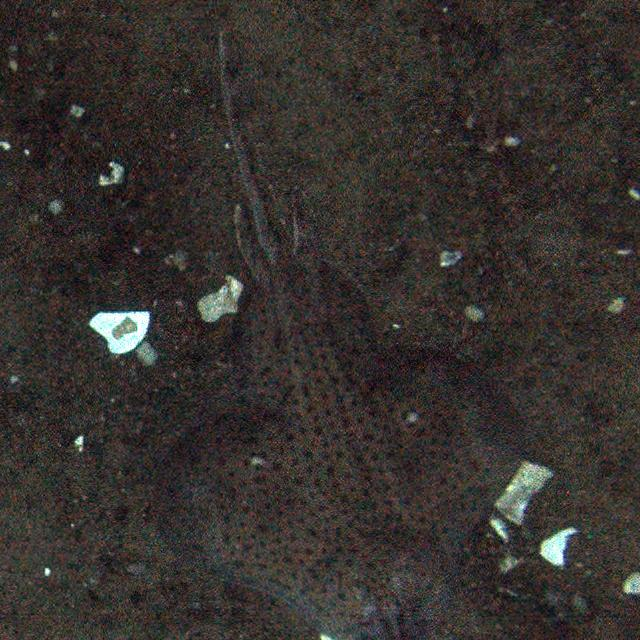skate: (148, 26, 521, 640)
